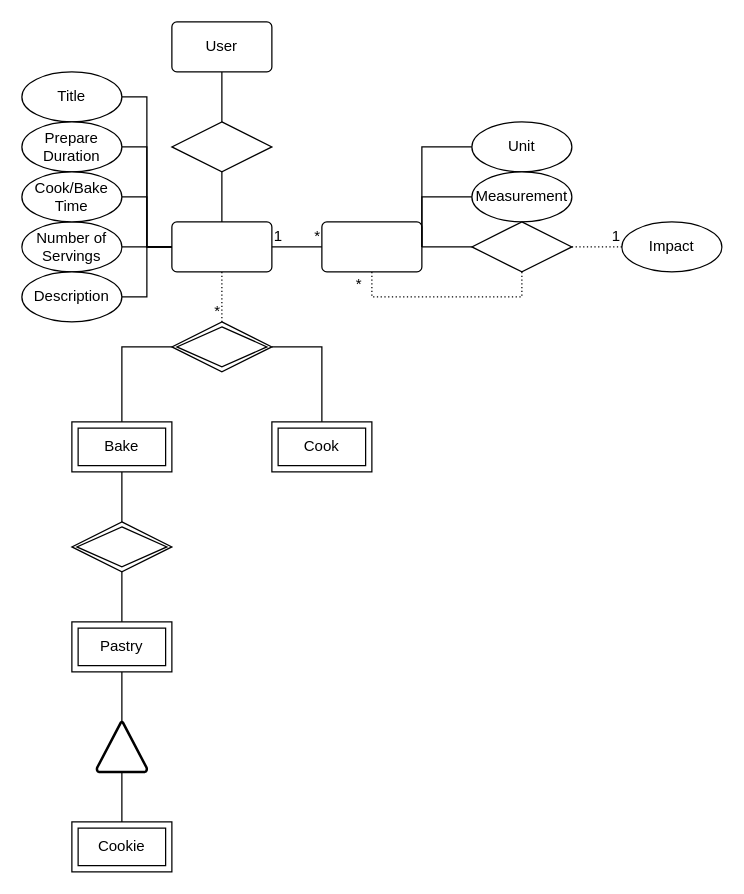
Image size: 744x894. Some labels were removed from this diagram. Here are the shapes that lost their labels. From the top down, the centre of each, then its label:
At (221,146): "Searches for".
At (221,246): "Recipe".
At (371,246): "Ingredient".
At (521,246): "Replaced By".
At (221,346): "Has a".
At (121,546): "Instance of".
At (121,746): "ISA".
